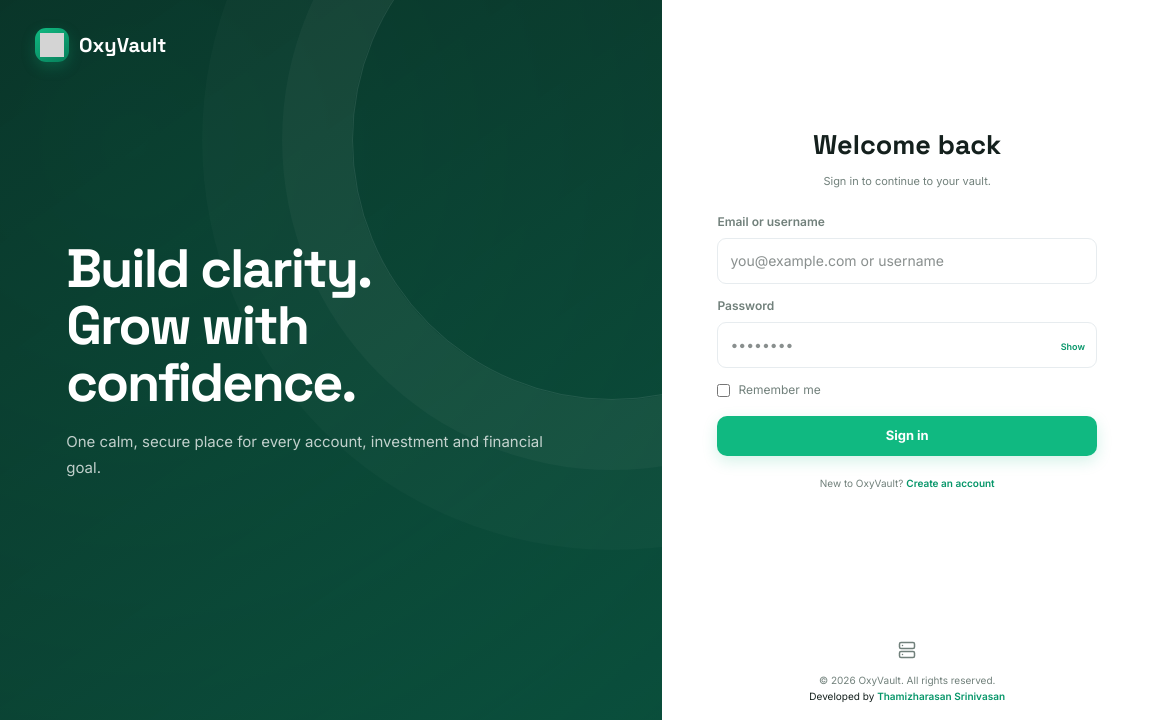
LoginPage › shows required-field errors and does not navigate
What coordinates should you click on to do the following:
click the button "Sign in"
I would click on:
 (907, 436)
Its box is x1=717 y1=416 x2=1097 y2=456.
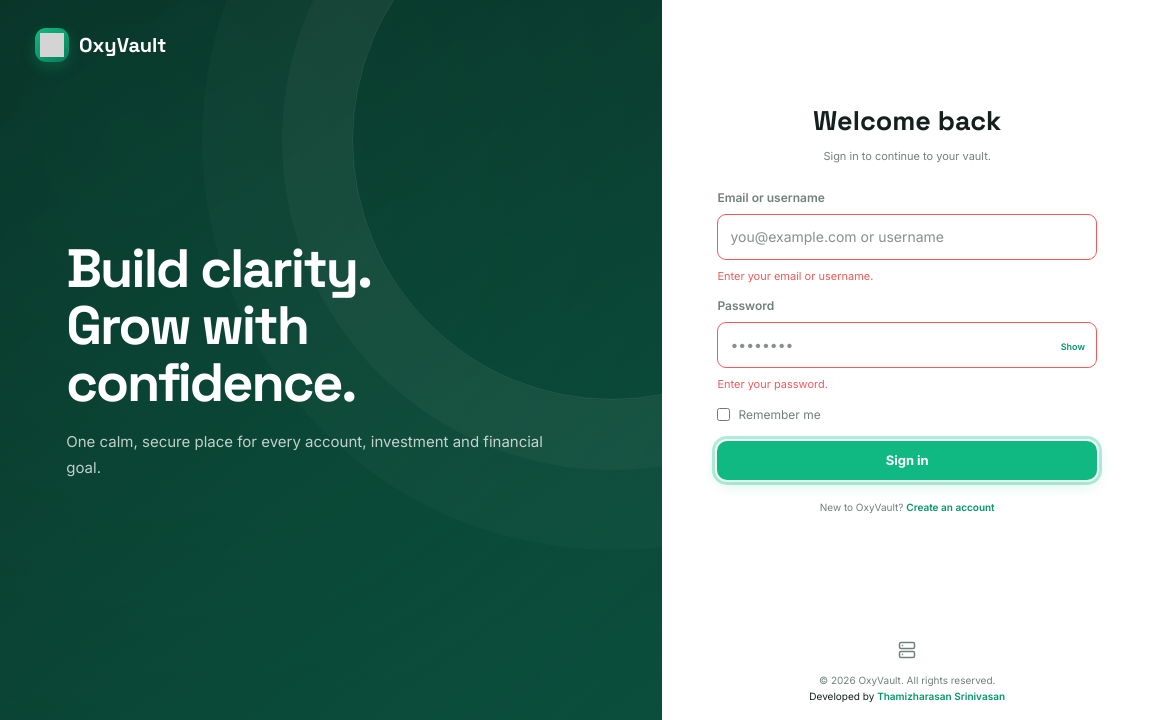
Expected: the heading "Welcome back" is shown, x1=813 y1=102 x2=1001 y2=138
Now the text "Enter your email or username." is shown, box x1=717 y1=268 x2=873 y2=282
Now the text "Enter your password." is shown, box x1=717 y1=377 x2=828 y2=391
